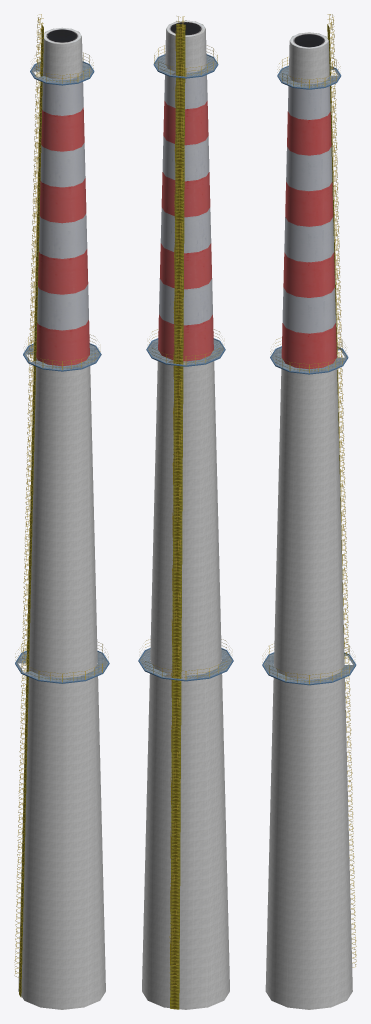
The model's file is Dummy Building 3.FBX.
The picture shows the model from 3 angles, left to right: view 1: azimuth 90°, elevation 25°; view 2: azimuth 150°, elevation 25°; view 3: azimuth 270°, elevation 25°; orthographic projection.
Parts seen in each view (by area): view 1: Dummy Building 3; view 2: Dummy Building 3; view 3: Dummy Building 3.
Boxes of the visible parts, bbox=[...] form: Dummy Building 3: bbox=[14, 14, 109, 1009]; Dummy Building 3: bbox=[138, 16, 233, 1009]; Dummy Building 3: bbox=[262, 14, 356, 1009].
Size of the model in its own units: 893 by 10181 by 897.
